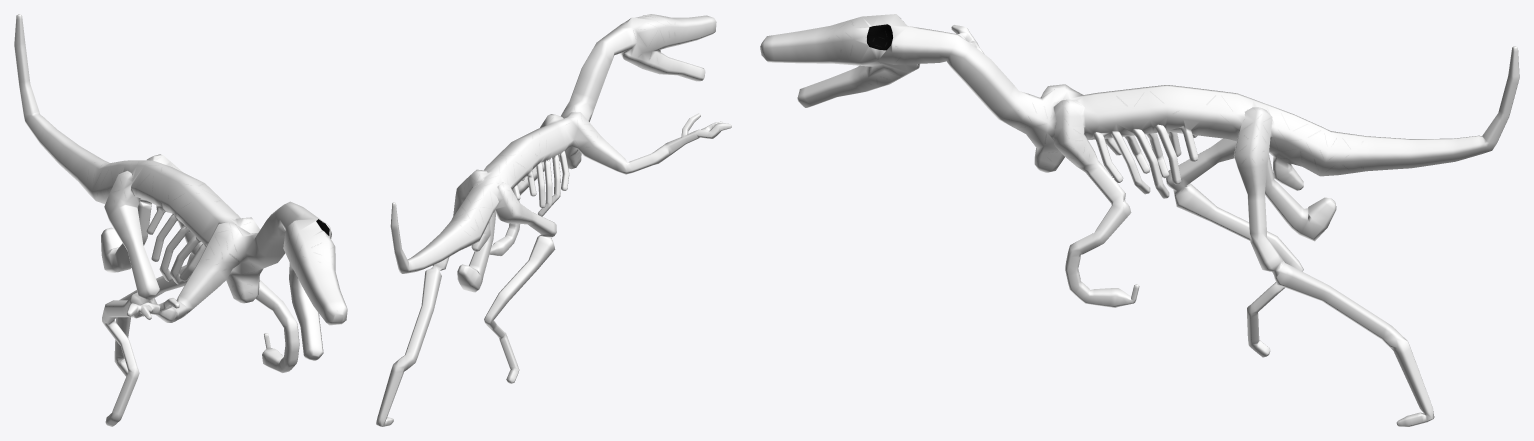
File: velociraptor.fbx
The picture shows the model from 3 angles, left to right: view 1: azimuth 30°, elevation 25°; view 2: azimuth 150°, elevation 25°; view 3: azimuth 270°, elevation 25°; orthographic projection. The views are drawn at different scales.
Parts seen in each view (by area): view 1: unamed; view 2: unamed; view 3: unamed.
Boxes of the visible parts, <box> form: unamed: <box>14,14,347,426</box>; unamed: <box>376,14,731,426</box>; unamed: <box>760,14,1519,426</box>.
Size of the model in its own units: 0.5727 by 0.8373 by 1.56.
1 material, 1 textured.
